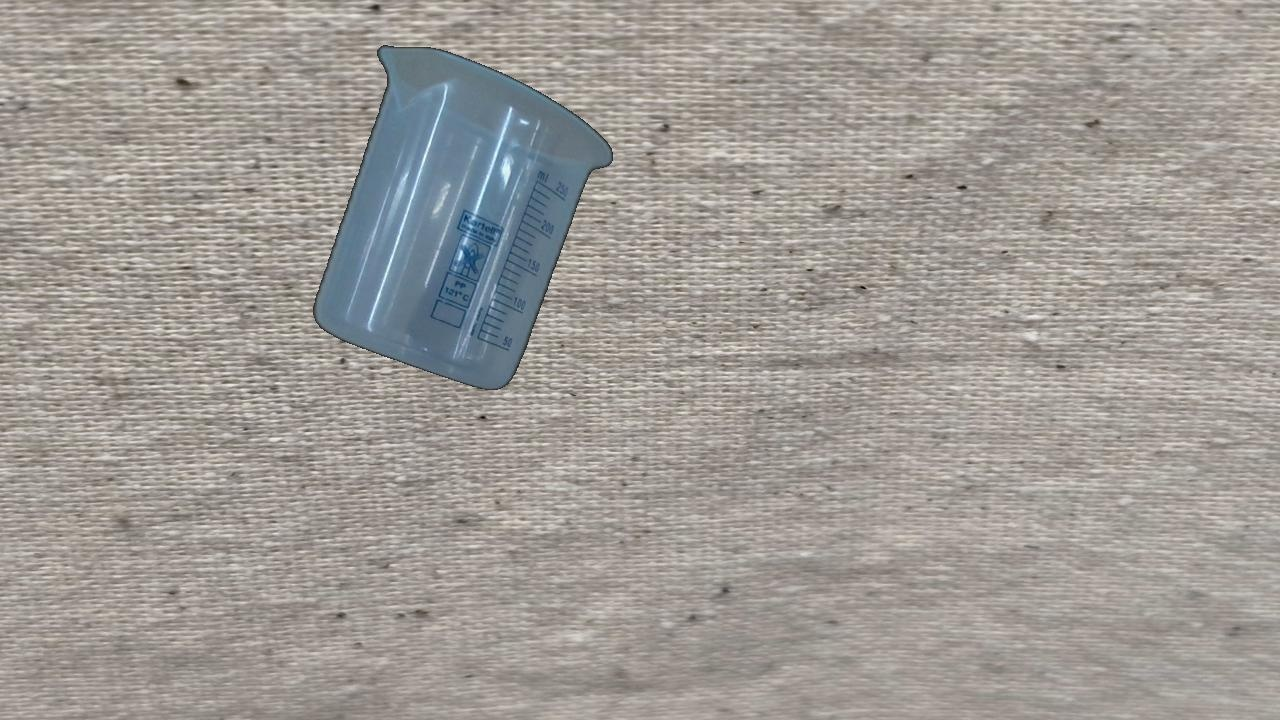becker: (312, 43, 613, 392)
